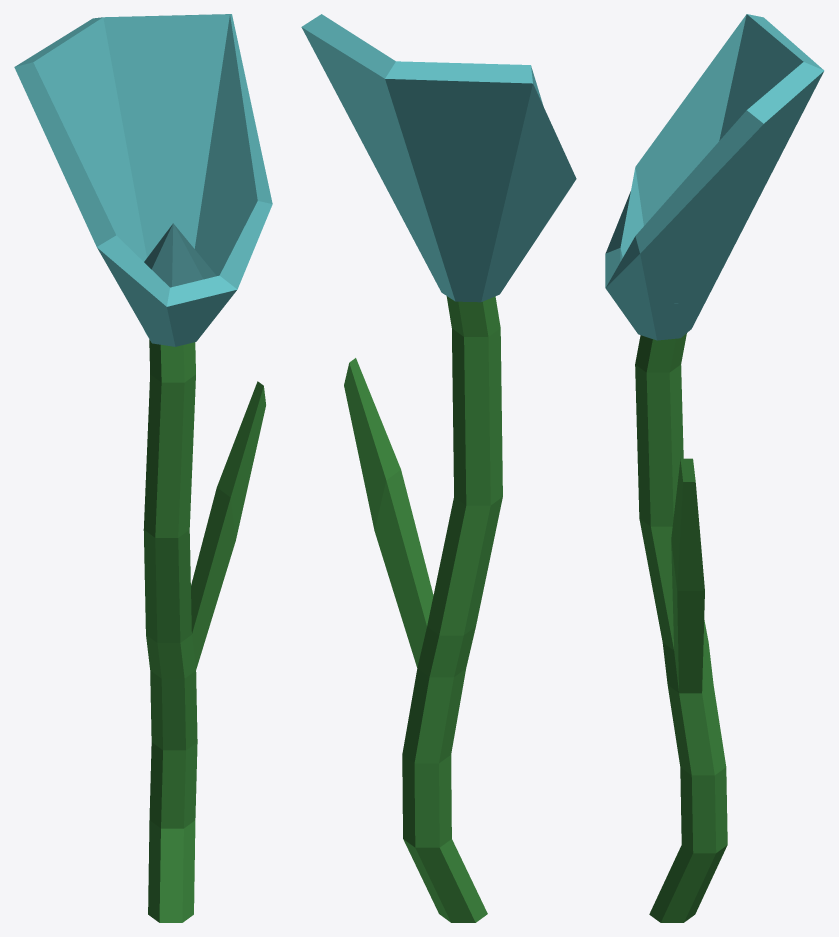
Rendered from Flower_5_Cyan.fbx.
The picture shows the model from 3 angles, left to right: view 1: azimuth 30°, elevation 25°; view 2: azimuth 150°, elevation 25°; view 3: azimuth 270°, elevation 25°; orthographic projection. The views are drawn at different scales.
Visible parts, largest first — view 1: Flower_5_Cyan_Part_2, Flower_5_Cyan_Part_1, Flower_5_Cyan_Part_3; view 2: Flower_5_Cyan_Part_2, Flower_5_Cyan_Part_1; view 3: Flower_5_Cyan_Part_2, Flower_5_Cyan_Part_1.
Boxes of the visible parts, x1,y1,x2,y2 form: Flower_5_Cyan_Part_2: (14,14,272,346); Flower_5_Cyan_Part_1: (143,339,265,922); Flower_5_Cyan_Part_3: (144,223,216,287); Flower_5_Cyan_Part_2: (301,14,576,302); Flower_5_Cyan_Part_1: (344,296,502,922); Flower_5_Cyan_Part_2: (605,14,824,340); Flower_5_Cyan_Part_1: (635,333,727,922).
Bounding box in the file's own units: 10.95 × 40.82 × 9.51.
